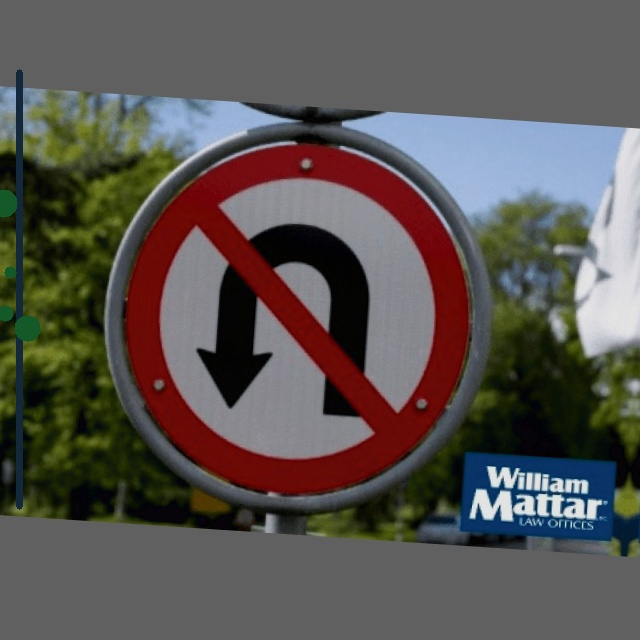U_Turn_Prohibited: (102, 117, 481, 489)
